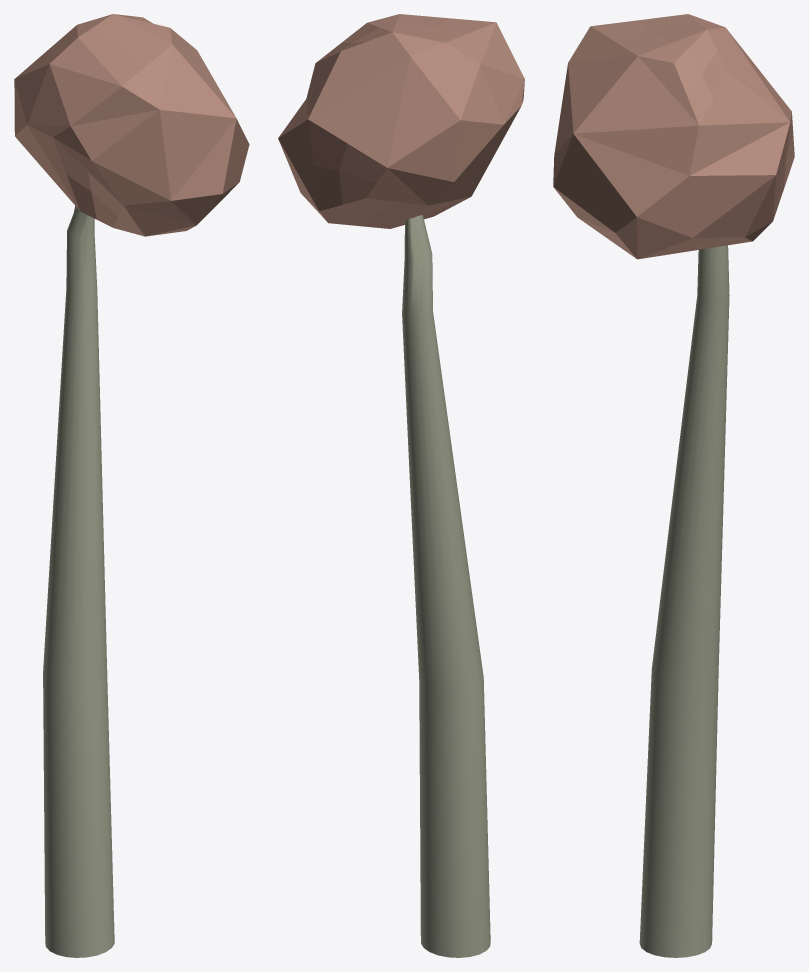
The model's file is spore3.fbx.
3 renders of one model, left to right at view 1: azimuth 30°, elevation 25°; view 2: azimuth 150°, elevation 25°; view 3: azimuth 270°, elevation 25°, orthographic. The views are drawn at different scales.
Parts seen in each view (by area): view 1: pCylinder1, pSolid80; view 2: pCylinder1, pSolid80; view 3: pSolid80, pCylinder1.
Part boxes in pixels (bbox=[...]): pCylinder1: bbox=[43, 206, 114, 957]; pSolid80: bbox=[14, 14, 249, 236]; pCylinder1: bbox=[402, 215, 490, 957]; pSolid80: bbox=[278, 14, 524, 228]; pSolid80: bbox=[553, 14, 794, 259]; pCylinder1: bbox=[639, 245, 729, 957].
Size of the model in its own units: 1.41 by 6.06 by 1.41.
